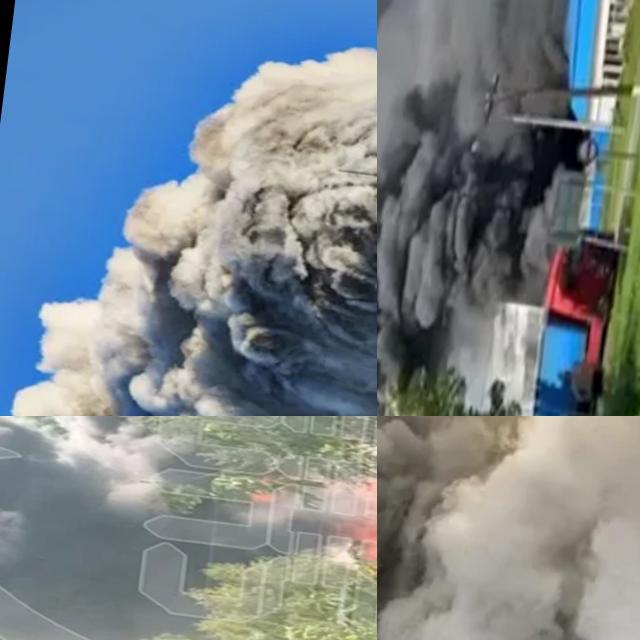smoke: (0, 8, 377, 416), (377, 0, 613, 416), (0, 416, 361, 640), (377, 416, 640, 640)
